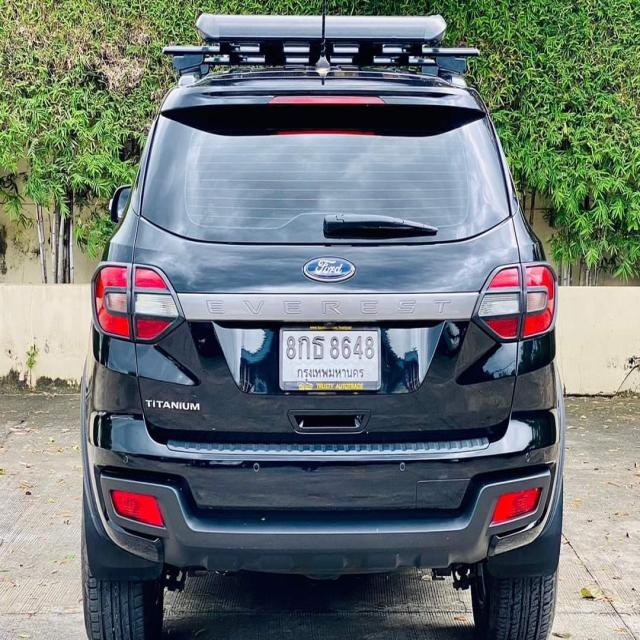license_plate: (279, 322, 384, 392)
